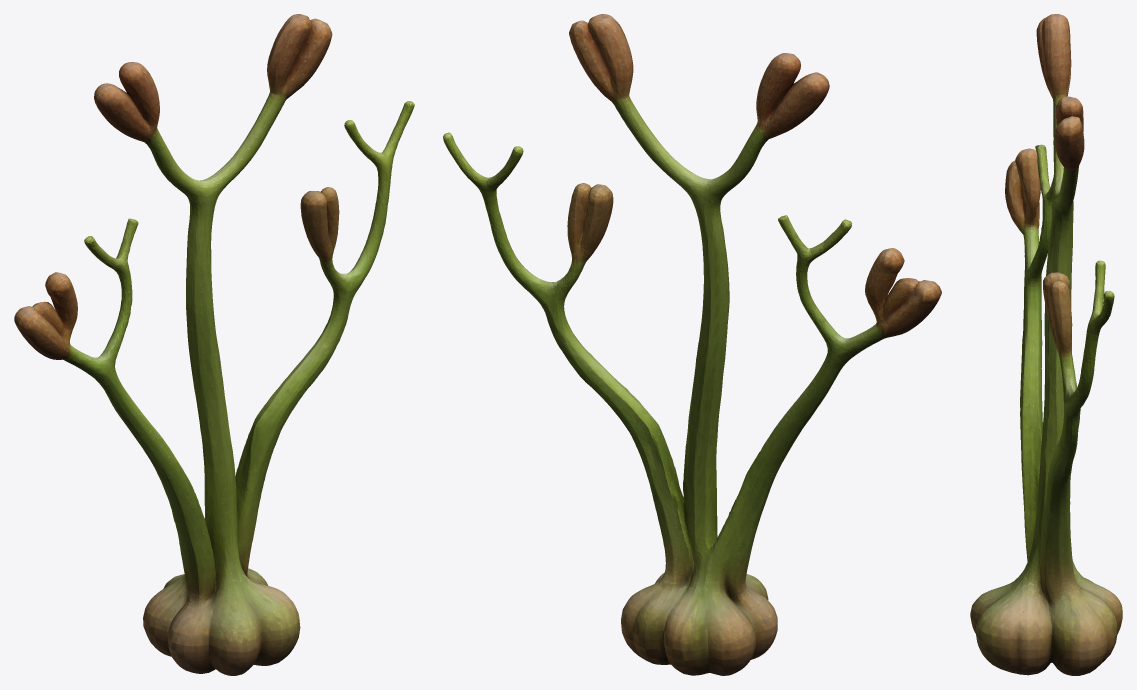
3 views of the same model, side by side, from view 1: azimuth 30°, elevation 25°; view 2: azimuth 150°, elevation 25°; view 3: azimuth 270°, elevation 25° (orthographic). The views are drawn at different scales.
Parts seen in each view (by area): view 1: world; view 2: world; view 3: world.
Boxes of the visible parts, <box> form: world: <box>14,14,414,675</box>; world: <box>443,14,941,675</box>; world: <box>970,14,1122,675</box>.
Size of the model in its own units: 0.7512 by 0.9999 by 0.2291.
1 material, 1 textured.
